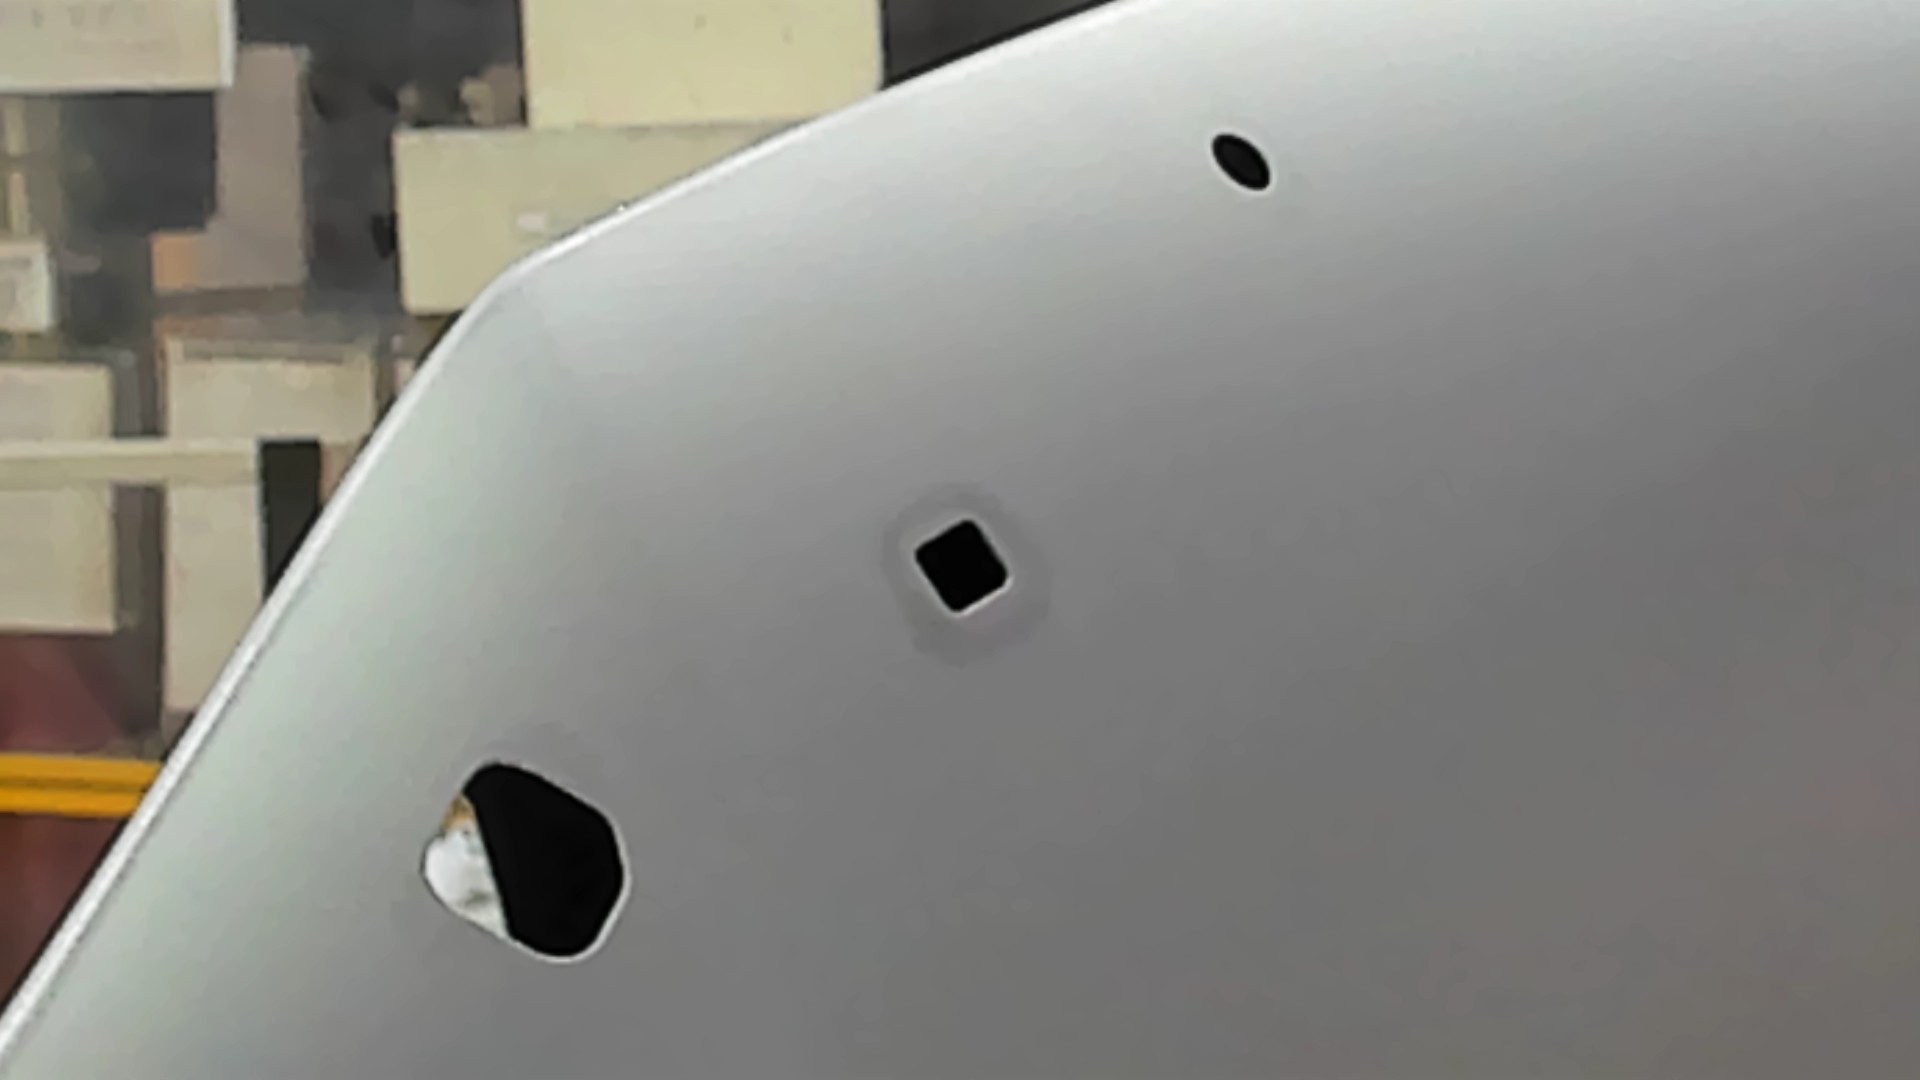capo: (1015, 196, 1920, 1080)
chico: (1205, 124, 1276, 196)
grande: (418, 756, 629, 969)
mediano: (902, 513, 1019, 624)
